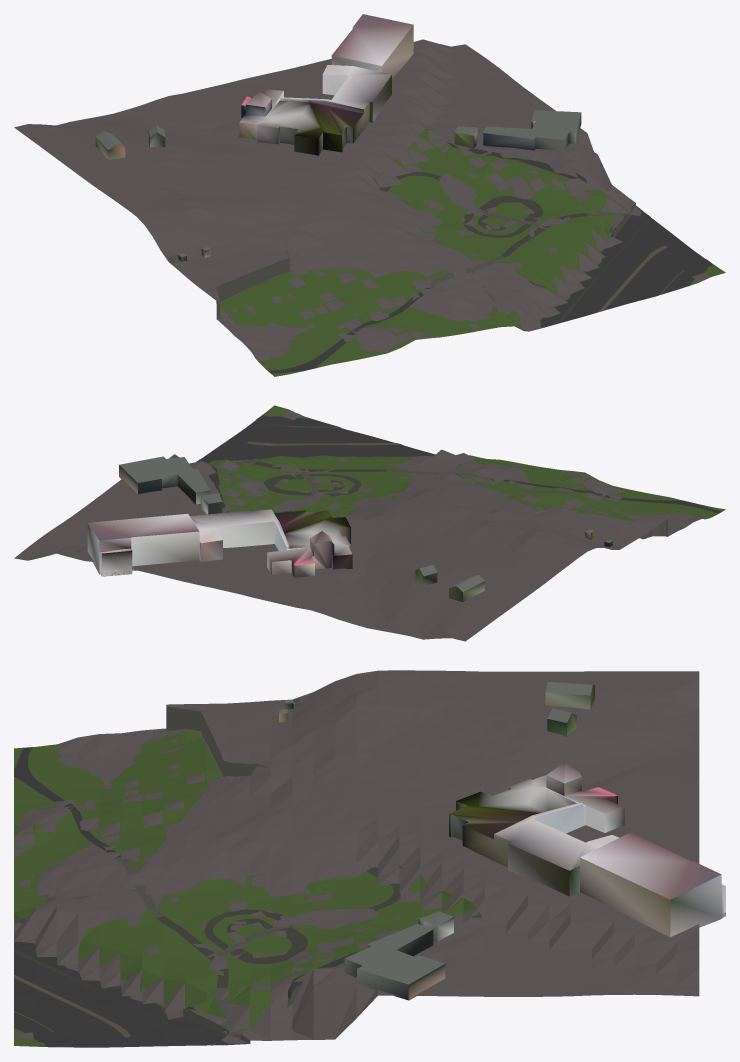
The picture shows the model from 3 angles, top to bottom: view 1: azimuth 30°, elevation 25°; view 2: azimuth 150°, elevation 25°; view 3: azimuth 270°, elevation 25°; orthographic projection. The views are drawn at different scales.
Visible parts, largest first — view 1: c_m05_m16; view 2: c_m05_m16; view 3: c_m05_m16.
Part boxes in pixels (<box>): c_m05_m16: <box>14,14,725,376</box>; c_m05_m16: <box>14,405,725,641</box>; c_m05_m16: <box>14,670,725,1047</box>.
Bounding box in the file's own units: 130 × 27.53 × 133.
